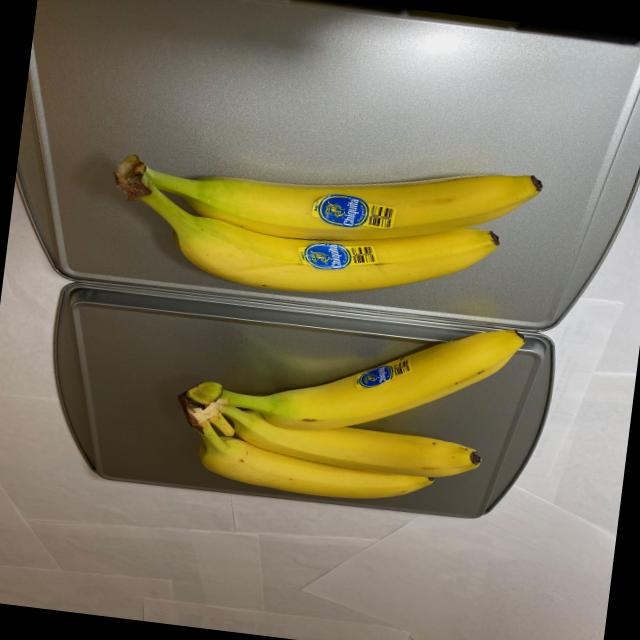banana: (98, 112, 546, 326), (164, 290, 537, 523)
